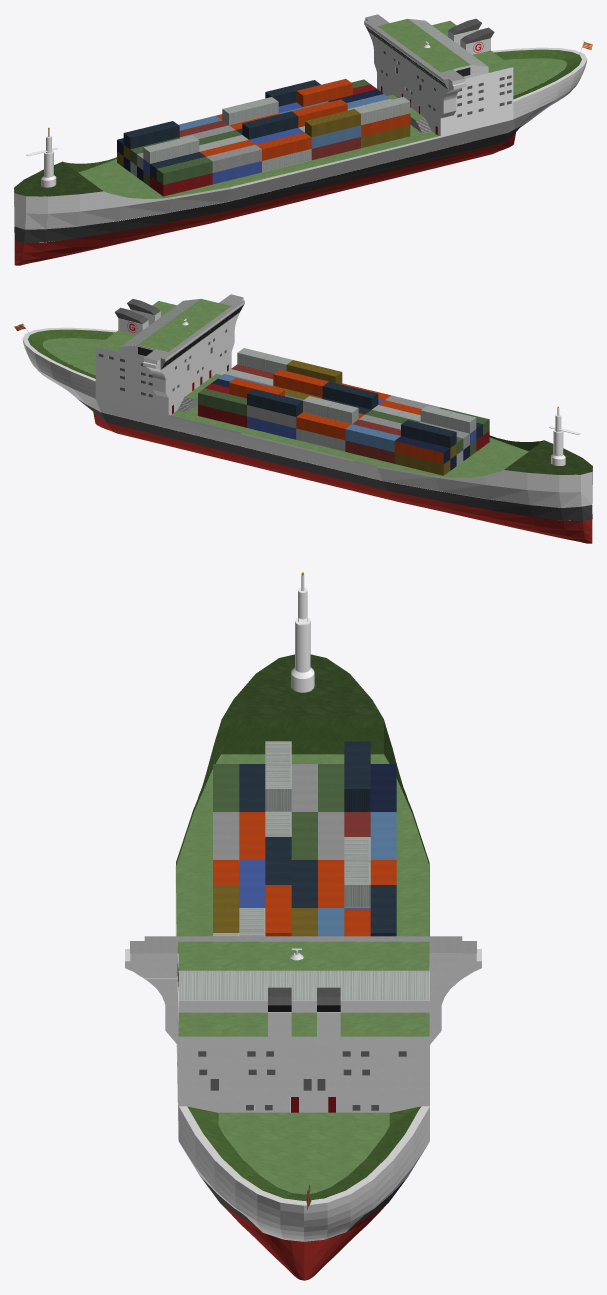
The model's file is ship_draco.gltf.
The picture shows the model from 3 angles, top to bottom: view 1: azimuth 30°, elevation 25°; view 2: azimuth 150°, elevation 25°; view 3: azimuth 270°, elevation 25°; orthographic projection. The views are drawn at different scales.
Parts seen in each view (by area): view 1: Mesh180 Model, Mesh153 Componente_2_11 Model, Mesh157 Componente_2_13 Model, Mesh163 Componente_13_4 Model, Mesh113 Componente_11_7 Model, Mesh161 Componente_9_9 Model, Mesh165 Componente_13_5 Model, Mesh169 Componente_7_7 Model, Mesh129 Componente_14_7 Model, Mesh155 Componente_2_12 Model, Mesh119 Componente_9_6 Model, Mesh159 Componente_9_8 Model (+12 smaller); view 2: Mesh180 Model, Mesh153 Componente_2_11 Model, Mesh165 Componente_13_5 Model, Mesh37 Componente_8_2 Model, Mesh157 Componente_2_13 Model, Mesh163 Componente_13_4 Model, Mesh167 Componente_13_6 Model, Mesh29 Componente_12_2 Model, Mesh35 Componente_9_2 Model, Mesh159 Componente_9_8 Model, Mesh31 Componente_11_2 Model, Mesh155 Componente_2_12 Model (+9 smaller); view 3: Mesh180 Model, Mesh153 Componente_2_11 Model, Mesh157 Componente_2_13 Model, Mesh163 Componente_13_4 Model, Mesh1 Componente_3_1 Model, Mesh159 Componente_9_8 Model, Mesh167 Componente_13_6 Model, Mesh29 Componente_12_2 Model, Mesh37 Componente_8_2 Model, Mesh55 Componente_11_3 Model, Mesh59 Componente_9_3 Model, Mesh63 Componente_14_3 Model (+10 smaller).
Part boxes in pixels (x1,y1,x2,y2): Mesh180 Model: (14, 14, 587, 265); Mesh153 Componente_2_11 Model: (143, 135, 199, 163); Mesh157 Componente_2_13 Model: (222, 97, 278, 124); Mesh163 Componente_13_4 Model: (123, 121, 179, 149); Mesh113 Componente_11_7 Model: (156, 156, 212, 184); Mesh161 Componente_9_9 Model: (296, 79, 352, 106); Mesh165 Componente_13_5 Model: (242, 111, 298, 139); Mesh169 Componente_7_7 Model: (305, 109, 360, 137); Mesh129 Componente_14_7 Model: (206, 144, 261, 172); Mesh155 Componente_2_12 Model: (355, 97, 410, 125); Mesh119 Componente_9_6 Model: (256, 132, 311, 160); Mesh159 Componente_9_8 Model: (292, 99, 347, 127); Mesh180 Model: (22, 294, 592, 543); Mesh153 Componente_2_11 Model: (420, 405, 476, 433); Mesh165 Componente_13_5 Model: (322, 381, 378, 409); Mesh37 Componente_8_2 Model: (394, 436, 450, 464); Mesh157 Componente_2_13 Model: (303, 396, 358, 423); Mesh163 Componente_13_4 Model: (401, 420, 456, 447); Mesh167 Componente_13_6 Model: (247, 389, 302, 416); Mesh29 Componente_12_2 Model: (345, 424, 400, 452); Mesh35 Componente_9_2 Model: (296, 412, 351, 440); Mesh159 Componente_9_8 Model: (273, 369, 328, 397); Mesh31 Componente_11_2 Model: (198, 388, 246, 416); Mesh155 Componente_2_12 Model: (237, 348, 292, 373); Mesh180 Model: (125, 654, 481, 1280); Mesh153 Componente_2_11 Model: (265, 741, 291, 811); Mesh157 Componente_2_13 Model: (344, 837, 370, 907); Mesh163 Componente_13_4 Model: (344, 741, 370, 811); Mesh1 Componente_3_1 Model: (291, 572, 314, 692); Mesh159 Componente_9_8 Model: (265, 885, 291, 936); Mesh167 Componente_13_6 Model: (370, 885, 396, 936); Mesh29 Componente_12_2 Model: (370, 812, 396, 859); Mesh37 Componente_8_2 Model: (370, 764, 396, 811); Mesh55 Componente_11_3 Model: (318, 764, 344, 811); Mesh59 Componente_9_3 Model: (318, 860, 344, 907); Mesh63 Componente_14_3 Model: (318, 812, 344, 859).
Bounding box in the file's own units: 158 × 34.03 × 42.38.
31 materials, 25 textured.
